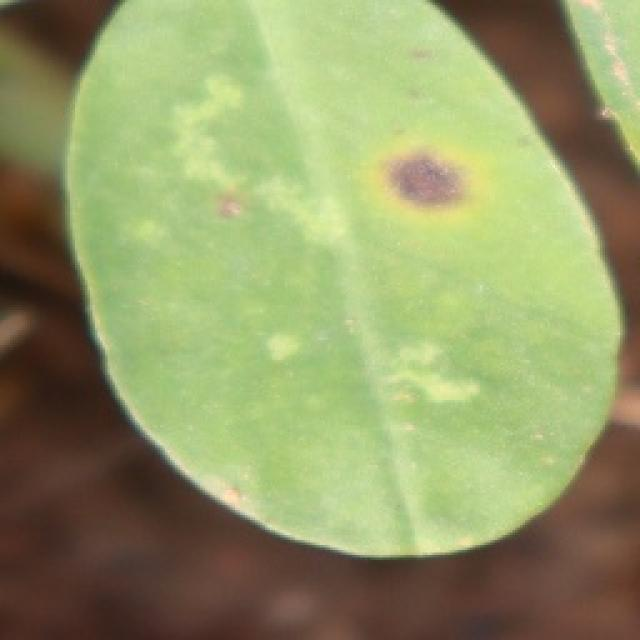Early_leaf_spot: (345, 101, 486, 232), (339, 313, 478, 426), (182, 172, 282, 270)
